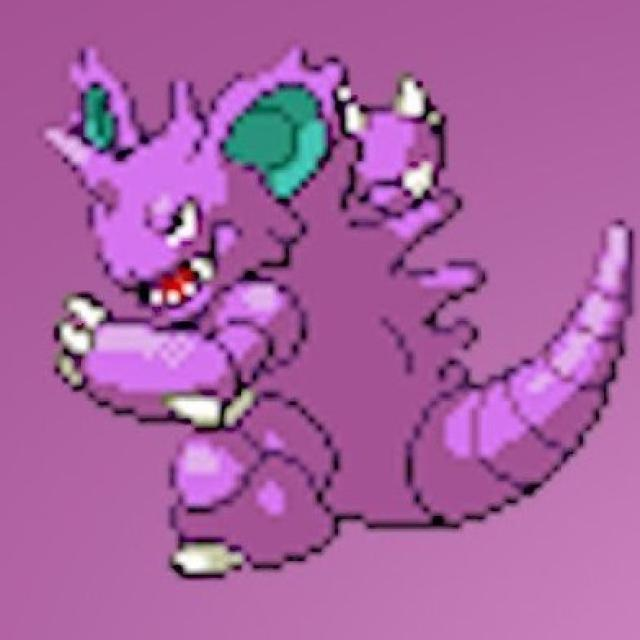Nidoking: (35, 24, 533, 588)
